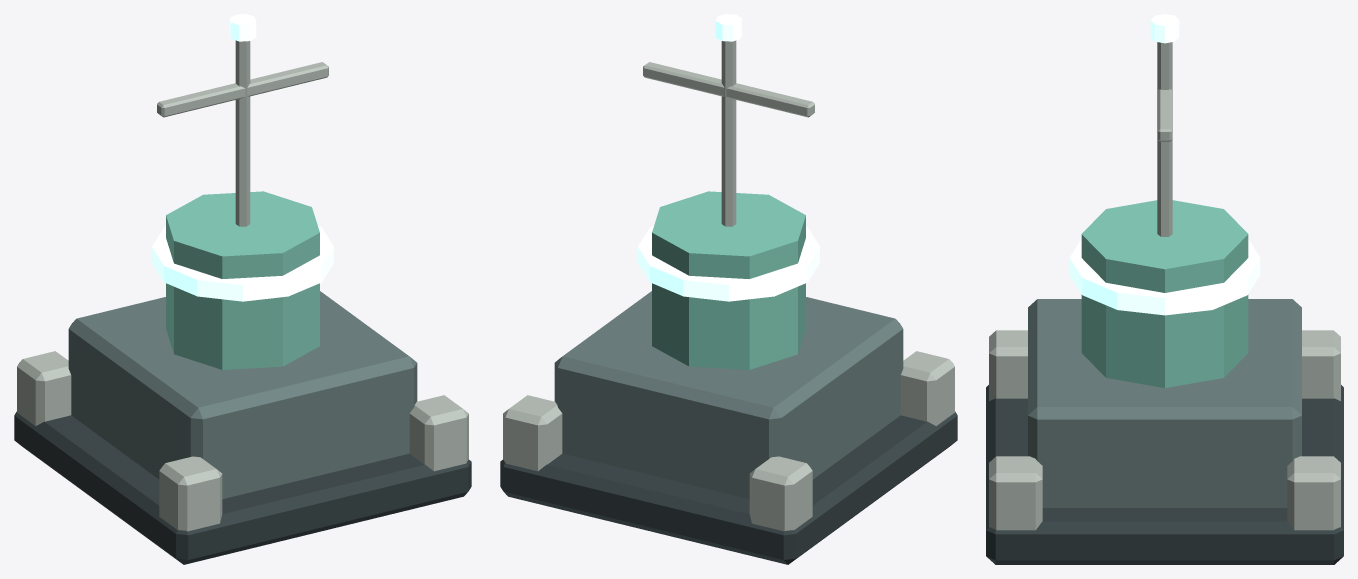
Rendered from relay.glb.
3 renders of one model, left to right at view 1: azimuth 30°, elevation 25°; view 2: azimuth 150°, elevation 25°; view 3: azimuth 270°, elevation 25°, orthographic. The views are drawn at different scales.
Visible parts, largest first — view 1: Power_base, Foundation.003, Reactor, Reactor_ring, Corner_armor.012, Corner_armor.014, Corner_armor.013, Antenna_cross, Antenna, Beacon.002; view 2: Power_base, Foundation.003, Reactor, Reactor_ring, Corner_armor.013, Corner_armor.015, Corner_armor.012, Antenna_cross, Antenna, Beacon.002; view 3: Power_base, Reactor, Foundation.003, Reactor_ring, Corner_armor.014, Corner_armor.015, Corner_armor.012, Corner_armor.013, Antenna, Beacon.002, Antenna_cross.
Part boxes in pixels (x1,y1,x2,y2): Power_base: [68, 291, 417, 499]; Foundation.003: [14, 411, 471, 564]; Reactor: [166, 191, 319, 369]; Reactor_ring: [152, 226, 333, 301]; Corner_armor.012: [159, 456, 222, 531]; Corner_armor.014: [409, 395, 468, 471]; Corner_armor.013: [17, 351, 71, 425]; Antenna_cross: [157, 62, 328, 117]; Antenna: [235, 40, 250, 226]; Beacon.002: [229, 14, 256, 41]; Power_base: [554, 291, 903, 499]; Foundation.003: [500, 411, 957, 564]; Reactor: [652, 191, 805, 369]; Reactor_ring: [638, 226, 819, 301]; Corner_armor.013: [749, 456, 812, 531]; Corner_armor.015: [503, 395, 562, 471]; Corner_armor.012: [900, 351, 954, 425]; Antenna_cross: [643, 62, 814, 117]; Antenna: [721, 40, 736, 226]; Beacon.002: [715, 14, 742, 41]; Power_base: [1028, 299, 1301, 507]; Reactor: [1081, 200, 1248, 387]; Foundation.003: [986, 385, 1343, 564]; Reactor_ring: [1069, 239, 1260, 315]; Corner_armor.014: [989, 456, 1042, 530]; Corner_armor.015: [1287, 456, 1340, 530]; Corner_armor.012: [989, 330, 1027, 401]; Corner_armor.013: [1302, 330, 1340, 401]; Antenna: [1157, 42, 1172, 236]; Beacon.002: [1150, 14, 1179, 43]; Antenna_cross: [1158, 89, 1171, 141].
Size of the model in its own units: 3 by 4.38 by 3.
